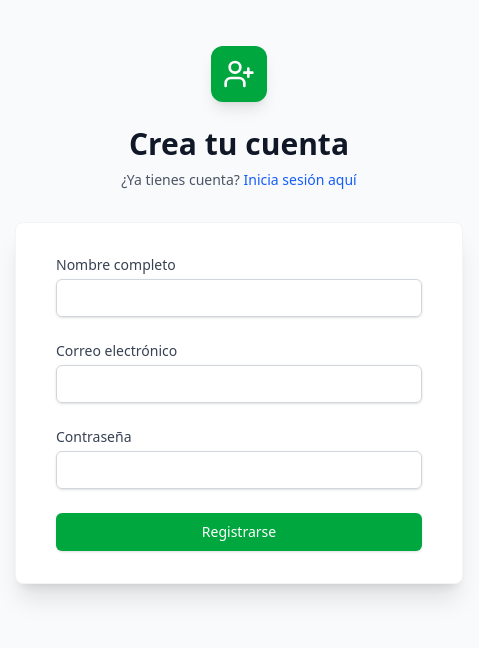
Test: RegisterPage › debe mostrar errores de validación si se envía vacío
Click the button "Registrarse" at (239, 532), box [56, 513, 422, 551]
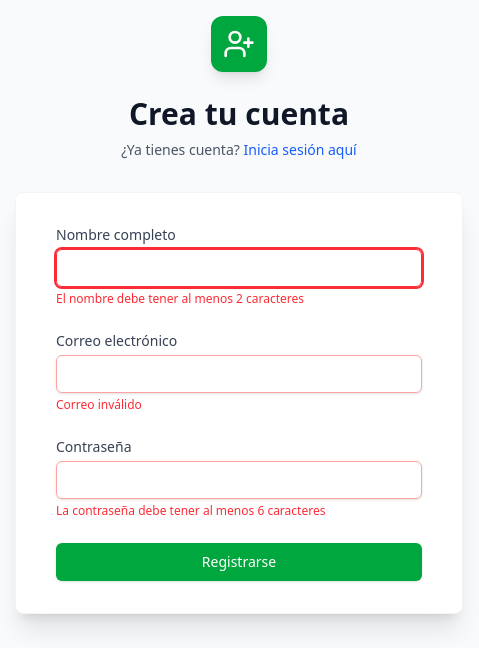
Expected: the text "El nombre debe tener al menos 2 caracteres" is shown, [56, 290, 304, 307]
Expected: the text "Correo inválido" is shown, [56, 396, 142, 413]
Expected: the text "La contraseña debe tener al menos 6 caracteres" is shown, [56, 502, 325, 519]
